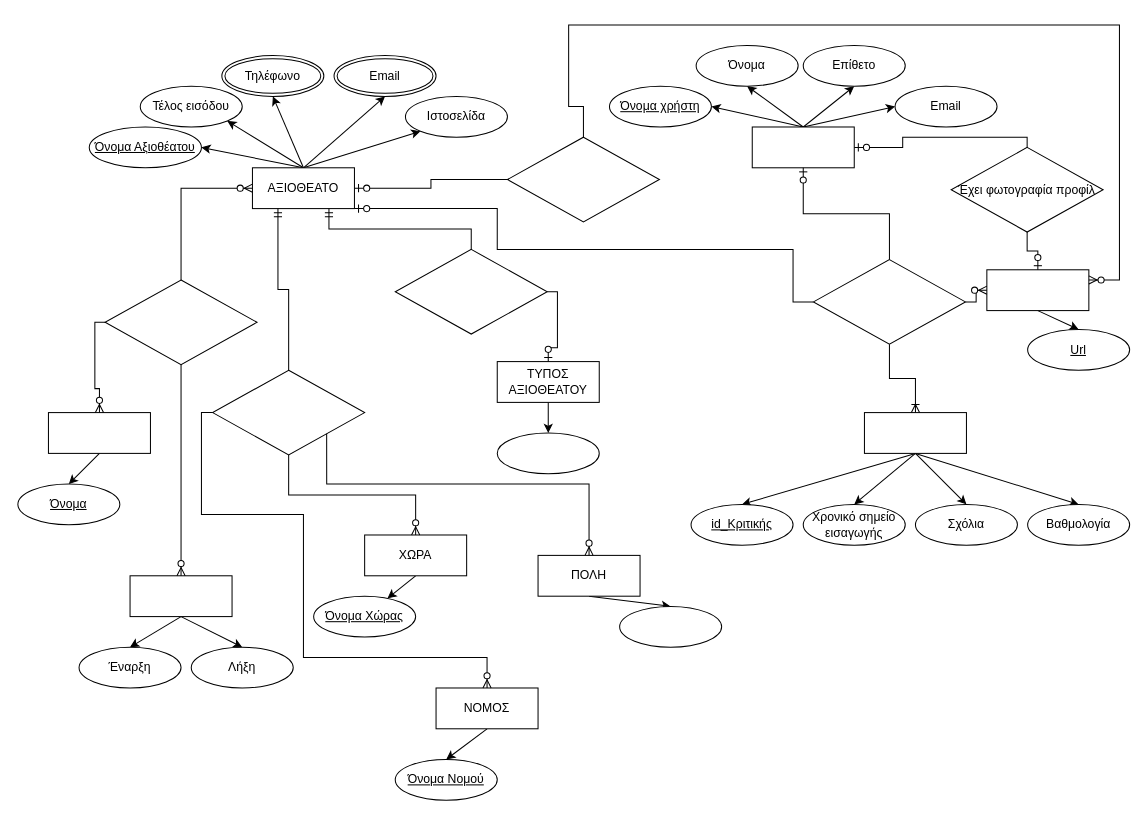
Some shapes in this 1148 by 818 pixel diagram are drawn without their labels. Here are the shapes that lost their labels. From the top down, the centre of each, then its label:
the point at 802,147: ΧΡΗΣΤΗΣ
the point at 582,179: Έχει φωτογραφία
the point at 470,291: Είναι τύπου
the point at 888,301: Αποτελείτε
the point at 1037,290: ΦΩΤΟΓΡΑΦΙΑ
the point at 180,322: Λειτουργεί
the point at 98,432: ΗΜΕΡΑ
the point at 288,412: Ανήκει
the point at 914,432: ΚΡΙΤΙΚΗ
the point at 547,453: Όνομα Τύπου
the point at 180,596: ΩΡΑΡΙΟ ΛΕΙΤΟΥΡΓΙΑΣ
the point at 670,626: Όνομα Πόλης
